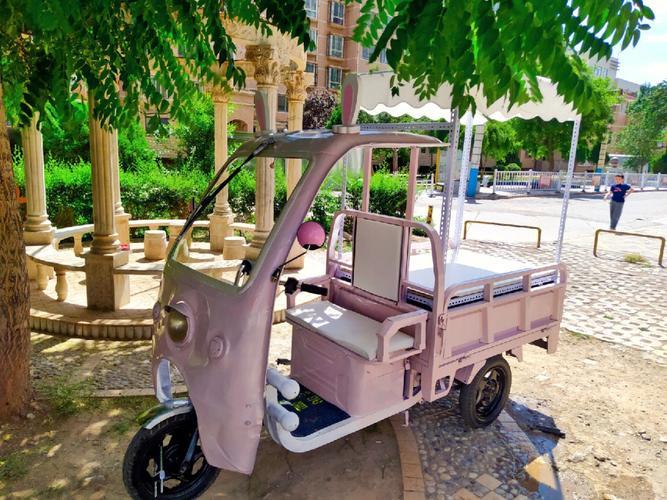empty: (130, 123, 583, 493)
